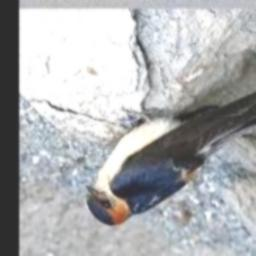Swallow: (86, 72, 256, 225)
